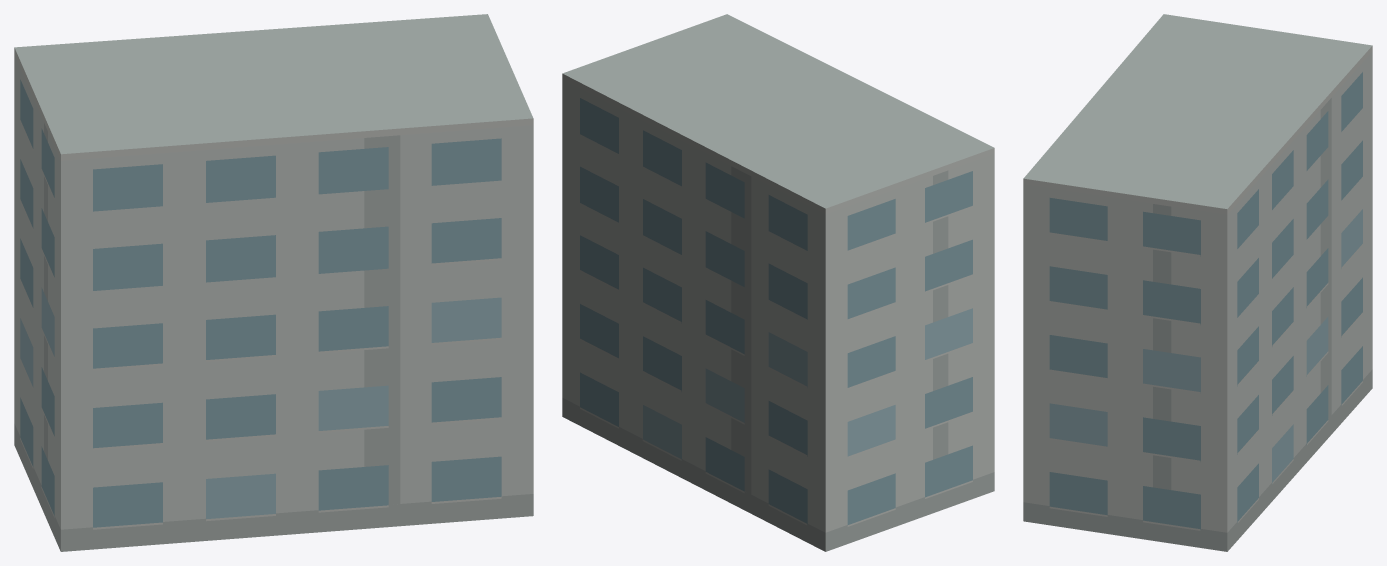
The model's file is survey-upis-32944919.glb.
3 renders of one model, left to right at view 1: azimuth 30°, elevation 25°; view 2: azimuth 150°, elevation 25°; view 3: azimuth 270°, elevation 25°, orthographic. The views are drawn at different scales.
Parts seen in each view (by area): view 1: survey-upis-32944919.tmp; view 2: survey-upis-32944919.tmp; view 3: survey-upis-32944919.tmp.
Boxes of the visible parts, x1,y1,x2,y2 form: survey-upis-32944919.tmp: (14, 14, 533, 551); survey-upis-32944919.tmp: (562, 14, 994, 551); survey-upis-32944919.tmp: (1023, 14, 1372, 551).
Bounding box in the file's own units: 17.47 × 14.3 × 13.22.
